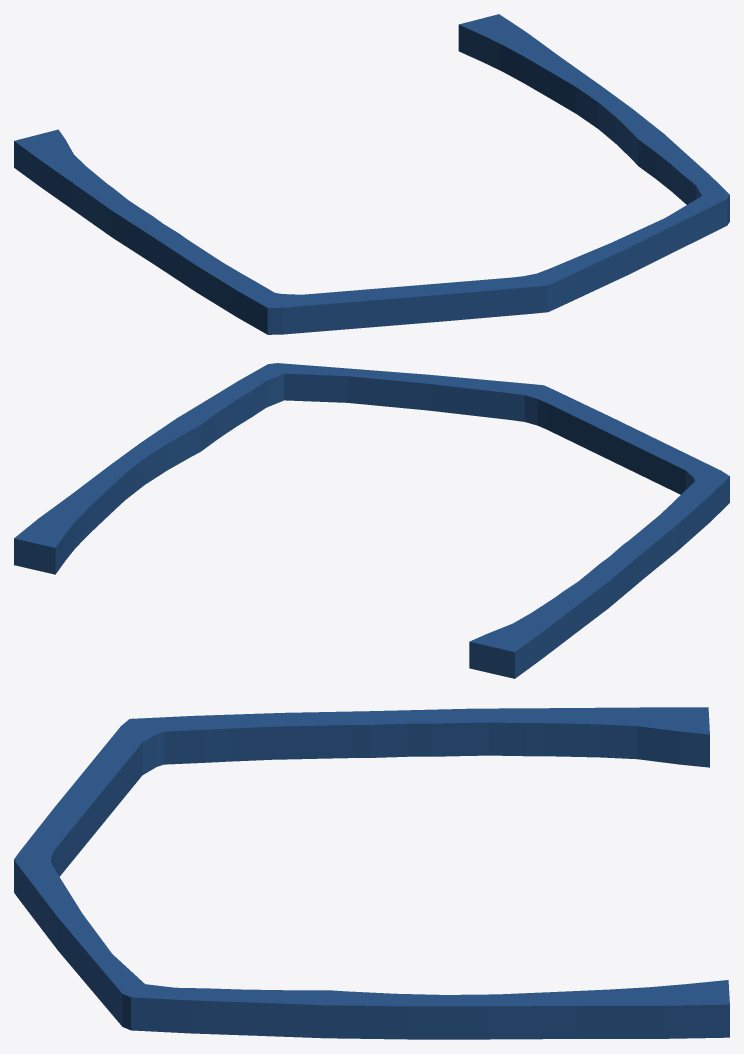
The model's file is pocket.fbx.
3 renders of one model, top to bottom at view 1: azimuth 30°, elevation 25°; view 2: azimuth 150°, elevation 25°; view 3: azimuth 270°, elevation 25°, orthographic. The views are drawn at different scales.
Visible parts, largest first — view 1: Cube; view 2: Cube; view 3: Cube.
Part boxes in pixels (<box>): Cube: <box>14,14,729,334</box>; Cube: <box>14,363,729,678</box>; Cube: <box>14,707,729,1039</box>.
Bounding box in the file's own units: 469 × 24.18 × 474.
